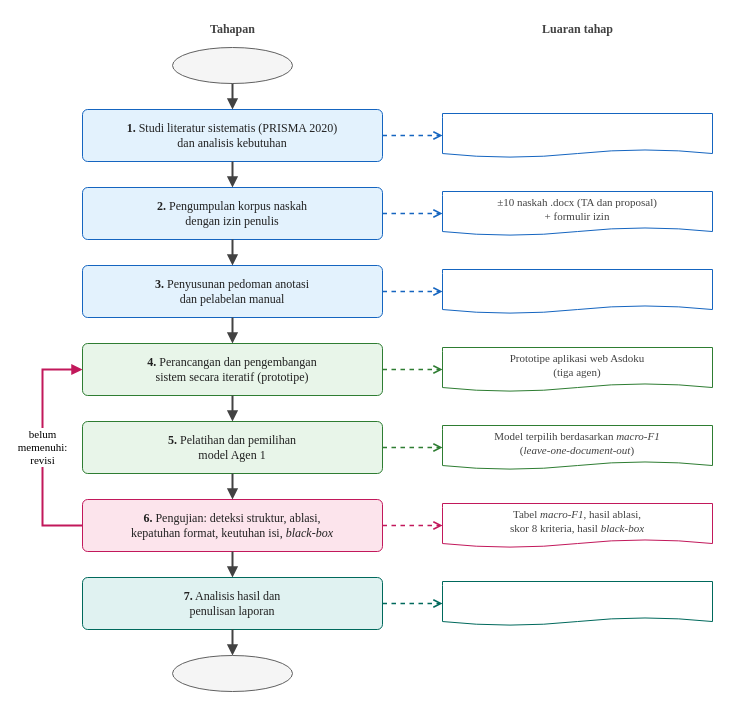
Some shapes in this 730 by 709 pixel diagram are drawn without their labels. Each missing label, with the box of its shape:
Laporan tugas akhir dan artikel ilmiah: (442, 580, 712, 626)
Mulai: (172, 46, 292, 84)
Pedoman anotasi, korpus berlabel, kappa Cohen: (442, 268, 712, 314)
Selesai: (172, 654, 292, 692)
Studi primer terpilih; daftar kebutuhan fungsional dan nonfungsional: (442, 112, 712, 158)
